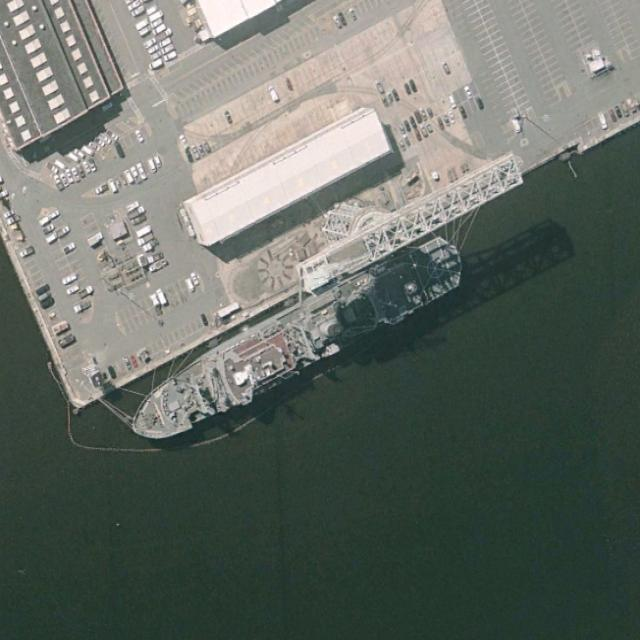Other Warship: (120, 226, 472, 457)
